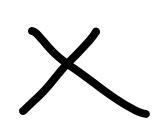mult: (19, 26, 150, 119)
